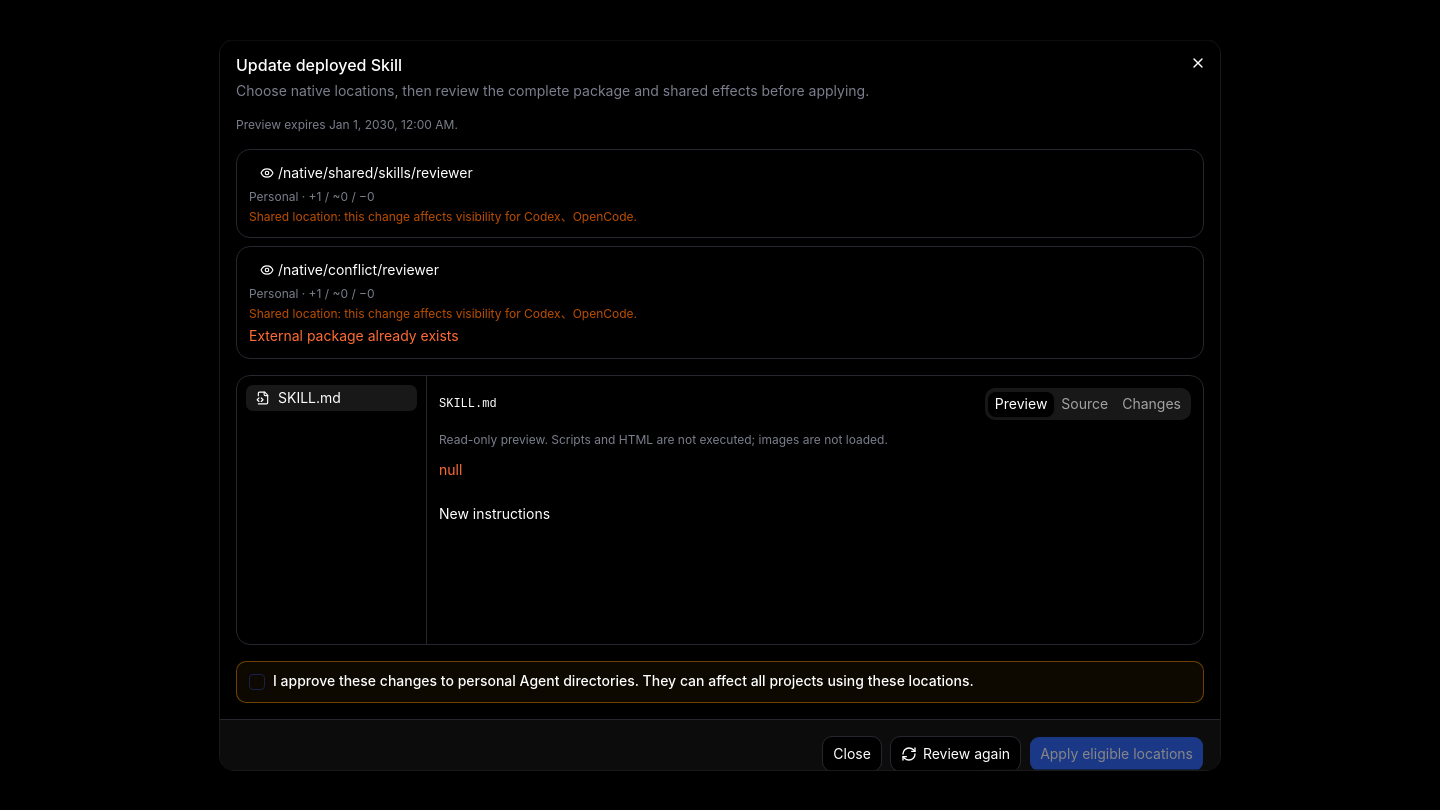
Test case: Skill deployment workflow › requires personal confirmation and preserves per-target success, failures and refresh warnings
Check: the button "Apply eligible locations" is disabled, box 1029,736 -> 1204,770
Click the checkbox named "I approve these changes".
click(257, 682)  # box 249,674 -> 265,690
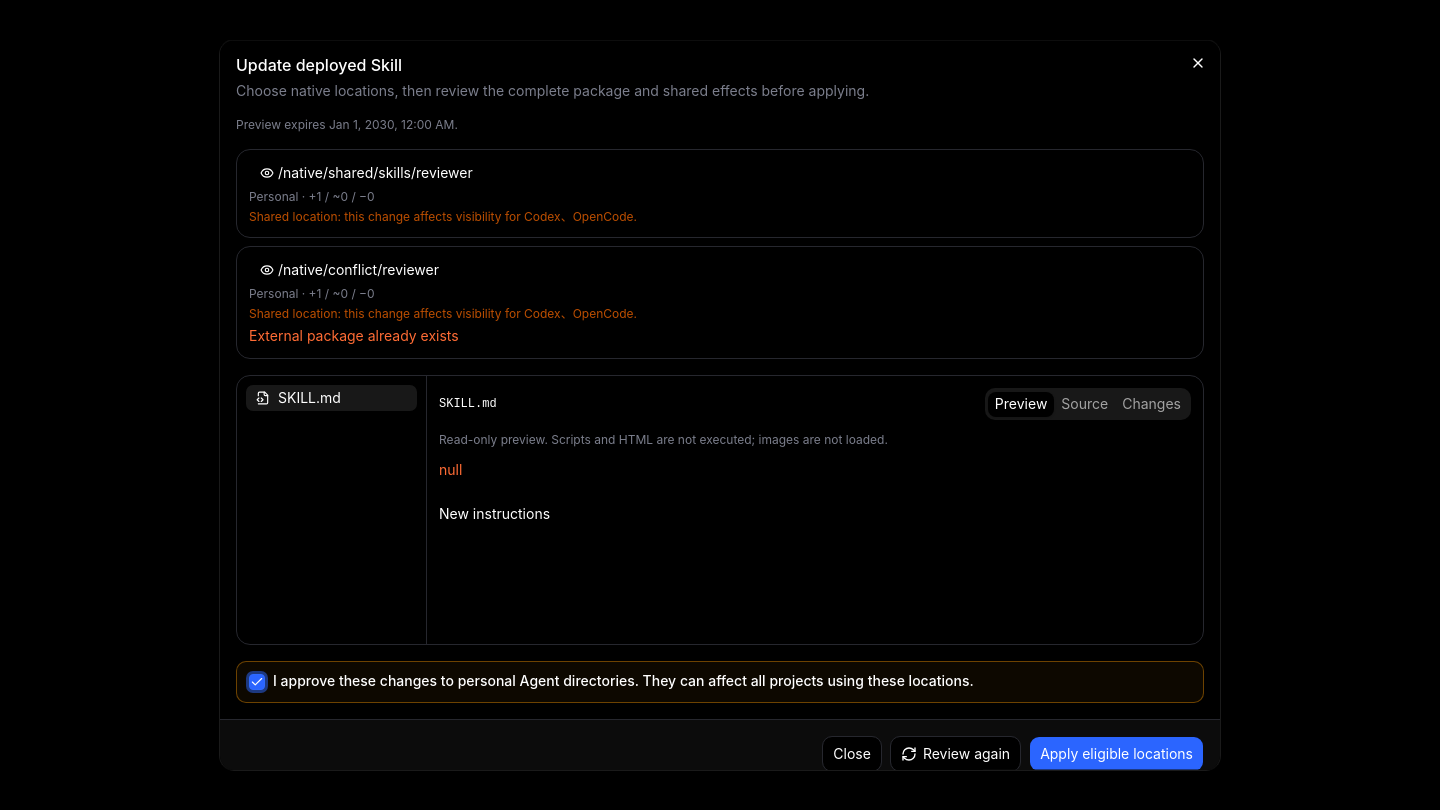
Click the button "Apply eligible locations".
click(1117, 754)  # box 1029,736 -> 1204,772
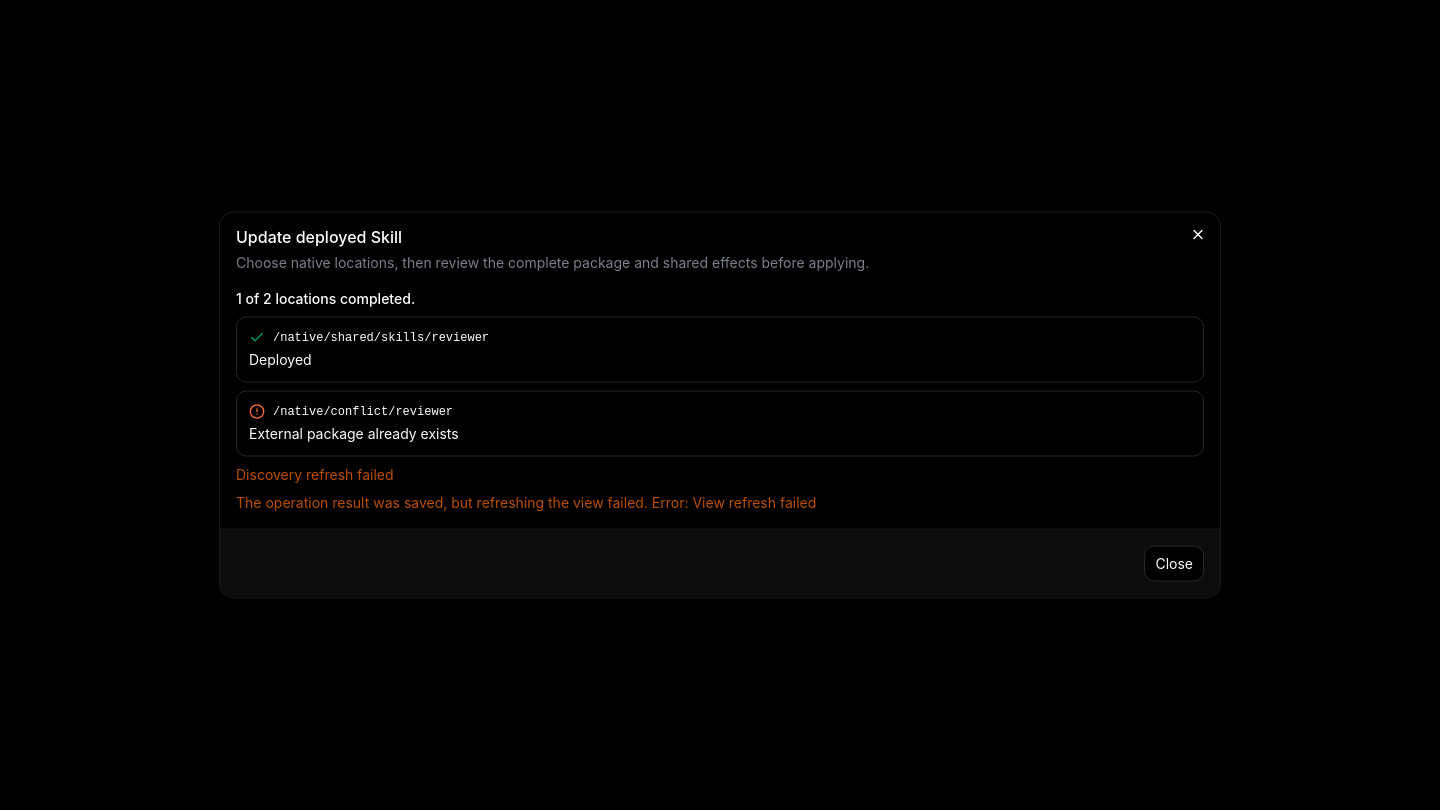
Check: the text "External package already exists" is shown, box 249,424 -> 459,442
Check: the text "1 of 2 locations completed." is shown, box 236,290 -> 415,306
Check: the text "Discovery refresh failed" is shown, box 236,466 -> 394,482
